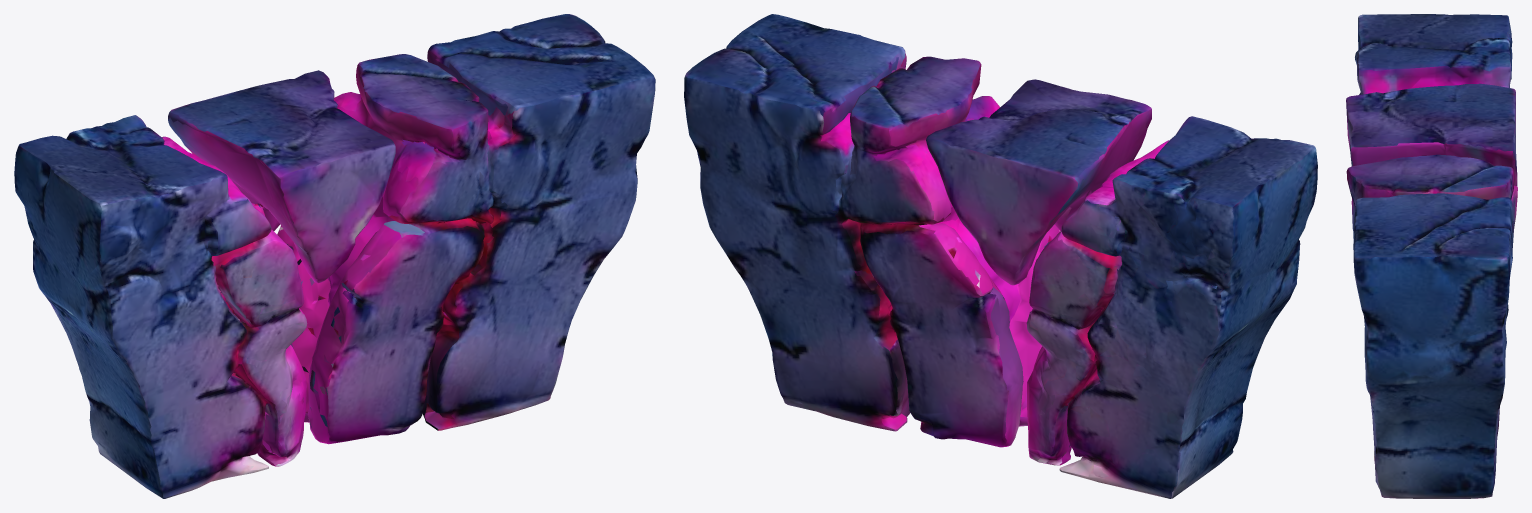
File: shelf-break-2-generated-2026-05-17T20-38-05-158Z.low.glb
3 renders of one model, left to right at view 1: azimuth 30°, elevation 25°; view 2: azimuth 150°, elevation 25°; view 3: azimuth 270°, elevation 25°, orthographic. The views are drawn at different scales.
Visible parts, largest first — view 1: temp_mesh.ply; view 2: temp_mesh.ply; view 3: temp_mesh.ply.
Boxes of the visible parts, x1,y1,x2,y2 form: temp_mesh.ply: (14,14,655,498); temp_mesh.ply: (684,14,1317,498); temp_mesh.ply: (1346,14,1517,498).
Bounding box in the file's own units: 1.97 × 1.09 × 0.5906.
1 material, 1 textured.
